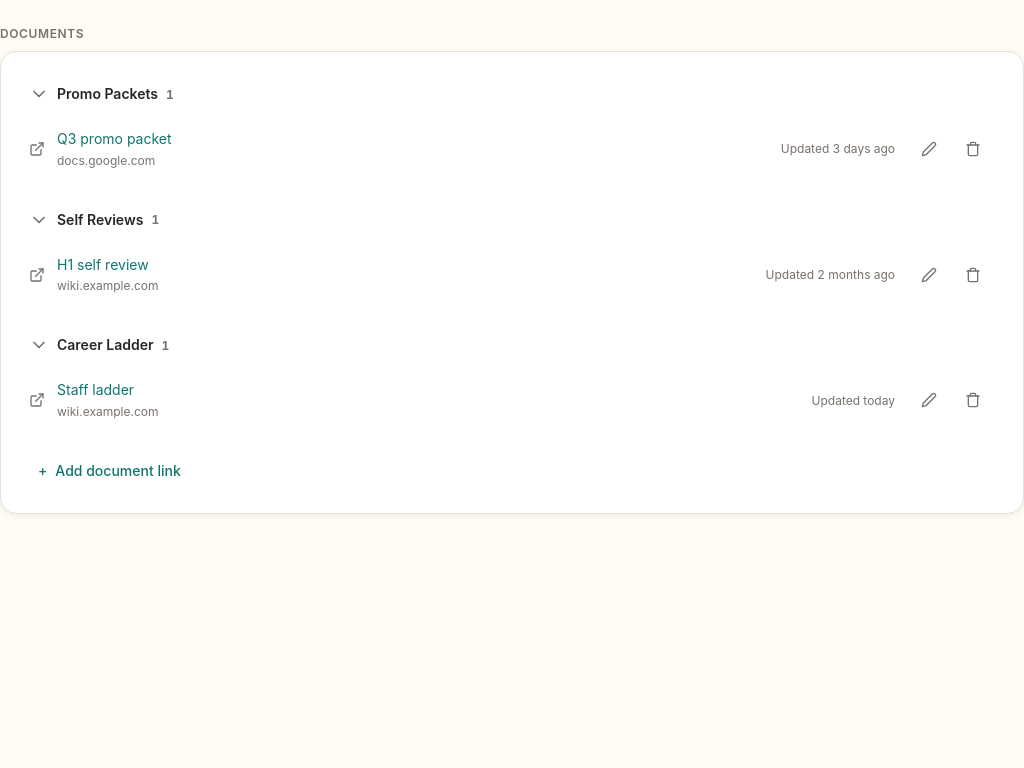
Test case: DocumentLinks › shows no form until "Add document link" is clicked
This screenshot has width=1024, height=768.
Step 1. Click the button "+ Add document link" → (109, 471), box [21, 449, 198, 493]
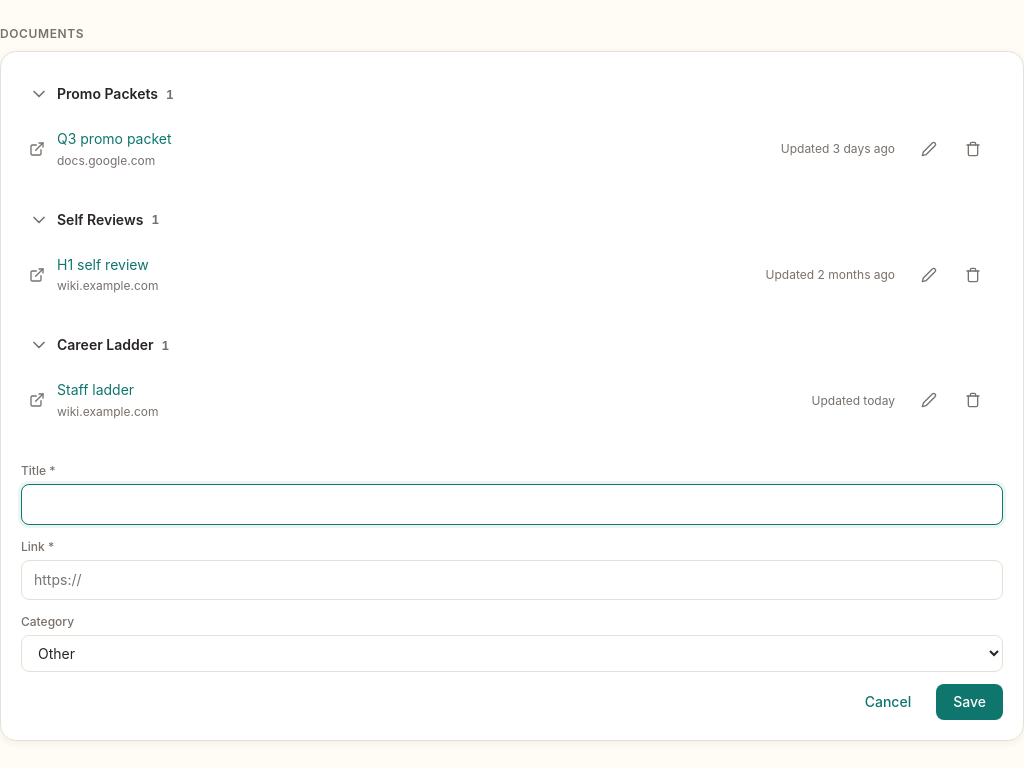
Expected: the form named "Add document link" is shown, [21, 449, 1003, 720]
